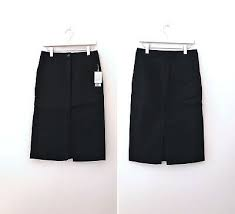F_tailored skirt: (26, 40, 116, 168), (126, 43, 210, 168)
